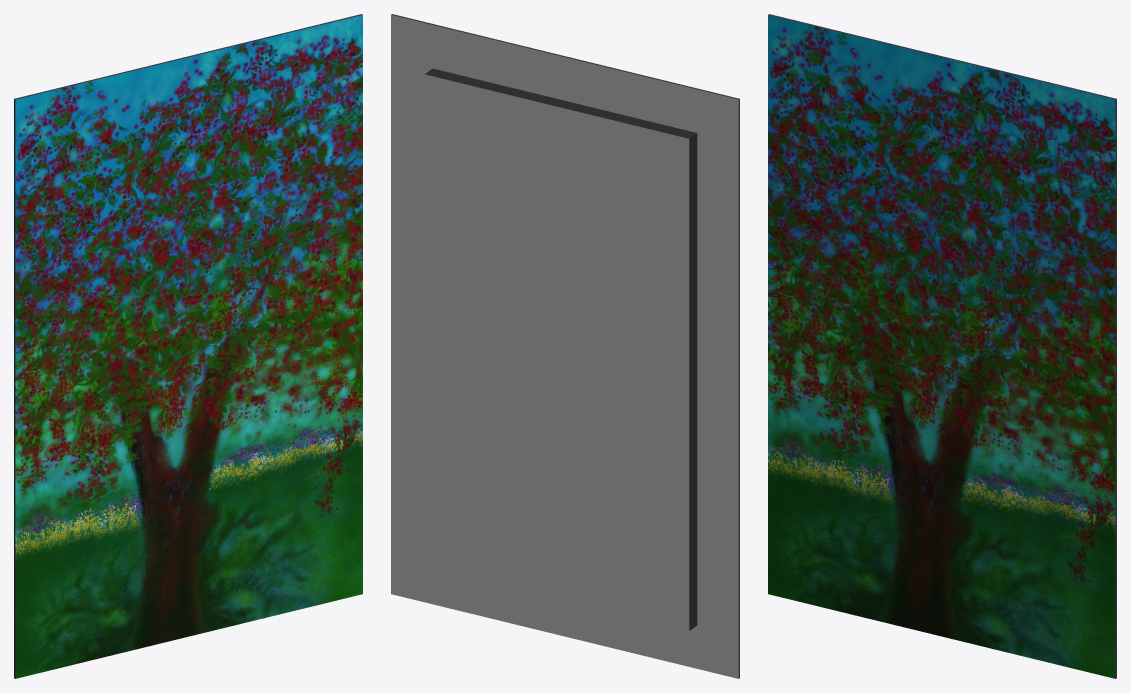
The model's file is os006_moyen_dibond.glb.
3 renders of one model, left to right at view 1: azimuth 30°, elevation 25°; view 2: azimuth 150°, elevation 25°; view 3: azimuth 330°, elevation 25°, orthographic.
Parts seen in each view (by area): view 1: os006_moyen_dibond; view 2: os006_moyen_dibond; view 3: os006_moyen_dibond.
Boxes of the visible parts, <box> form: os006_moyen_dibond: <box>14,14,362,678</box>; os006_moyen_dibond: <box>391,14,739,678</box>; os006_moyen_dibond: <box>768,14,1116,678</box>.
Size of the model in its own units: 0.5024 by 0.8 by 0.023.
Materials: 4 (1 with a texture image).
